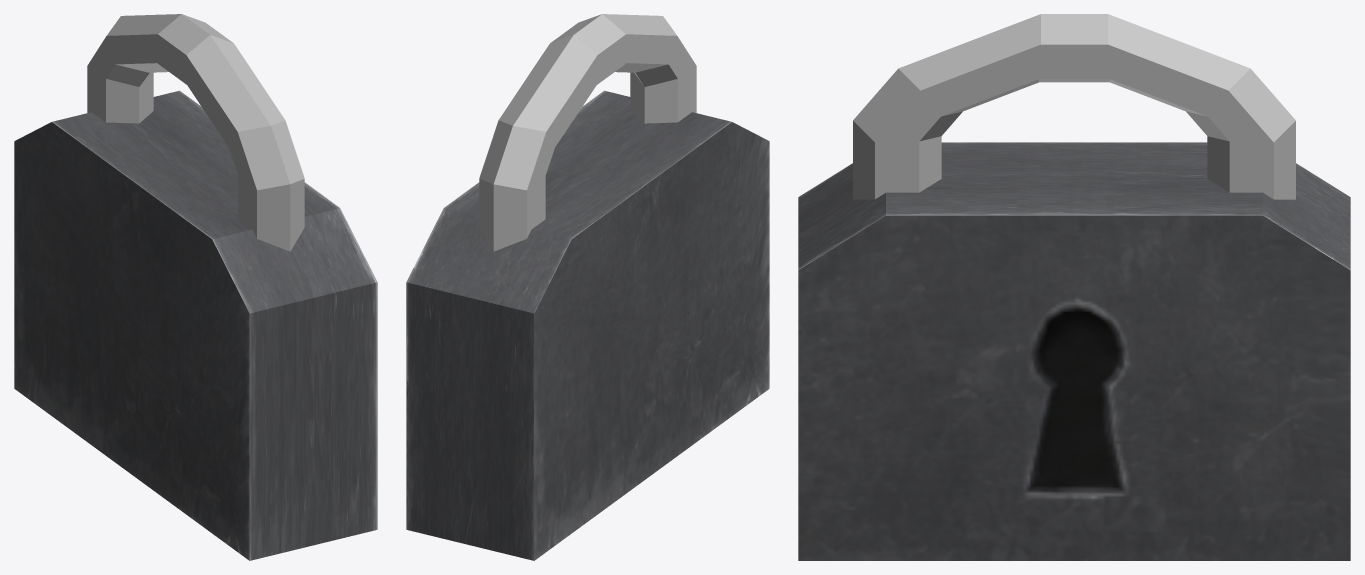
The model's file is cadeado-comTextura.fbx.
The picture shows the model from 3 angles, left to right: view 1: azimuth 30°, elevation 25°; view 2: azimuth 150°, elevation 25°; view 3: azimuth 270°, elevation 25°; orthographic projection. The views are drawn at different scales.
Visible parts, largest first — view 1: Cube, Torus.003; view 2: Cube, Torus.003; view 3: Cube, Torus.003.
Boxes of the visible parts, x1=… form: Cube: x1=14, y1=90, x2=377, y2=560; Torus.003: x1=87, y1=14, x2=304, y2=251; Cube: x1=406, y1=90, x2=769, y2=560; Torus.003: x1=479, y1=14, x2=696, y2=251; Cube: x1=798, y1=142, x2=1350, y2=560; Torus.003: x1=853, y1=14, x2=1295, y2=199.
Size of the model in its own units: 62.81 by 204 by 200.
